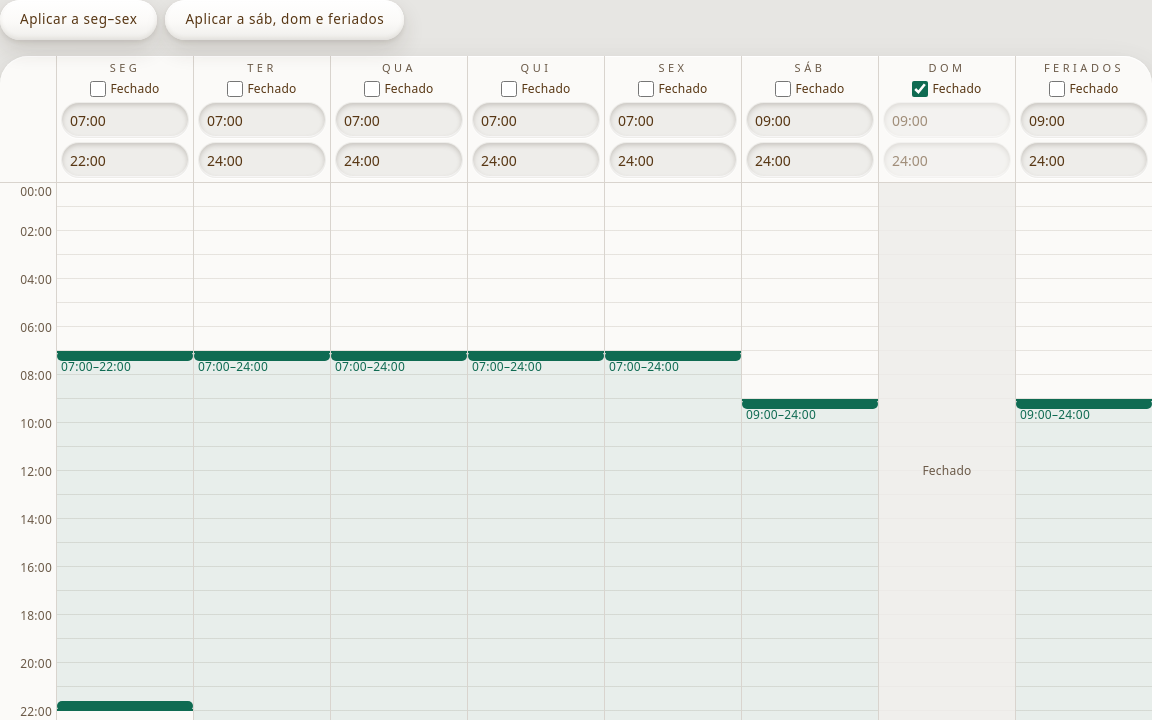
it: WeekHoursEditor drag handles (NUC-42) › snaps a dragged handle to the slot size
Press the mouse on the slider named "Ajustar fechamento (segunda)" at (125, 706), box [57, 701, 193, 711]
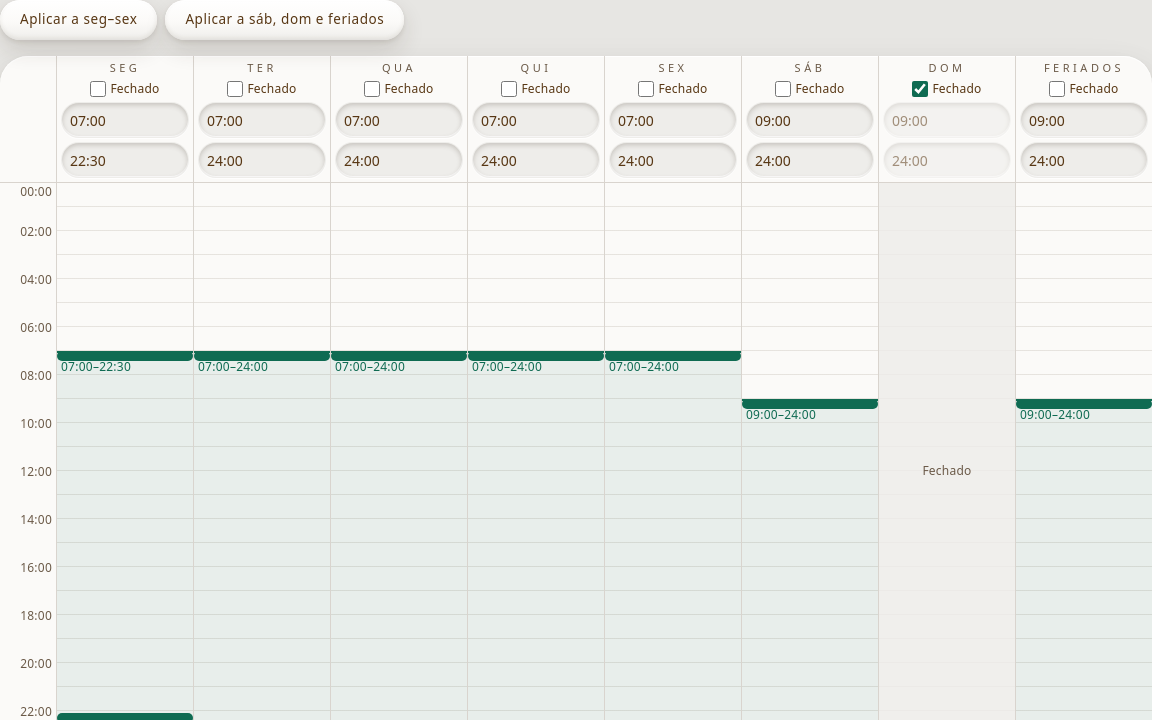
Now the field named "Fechamento segunda" holds "22:30", box [61, 142, 189, 178]
